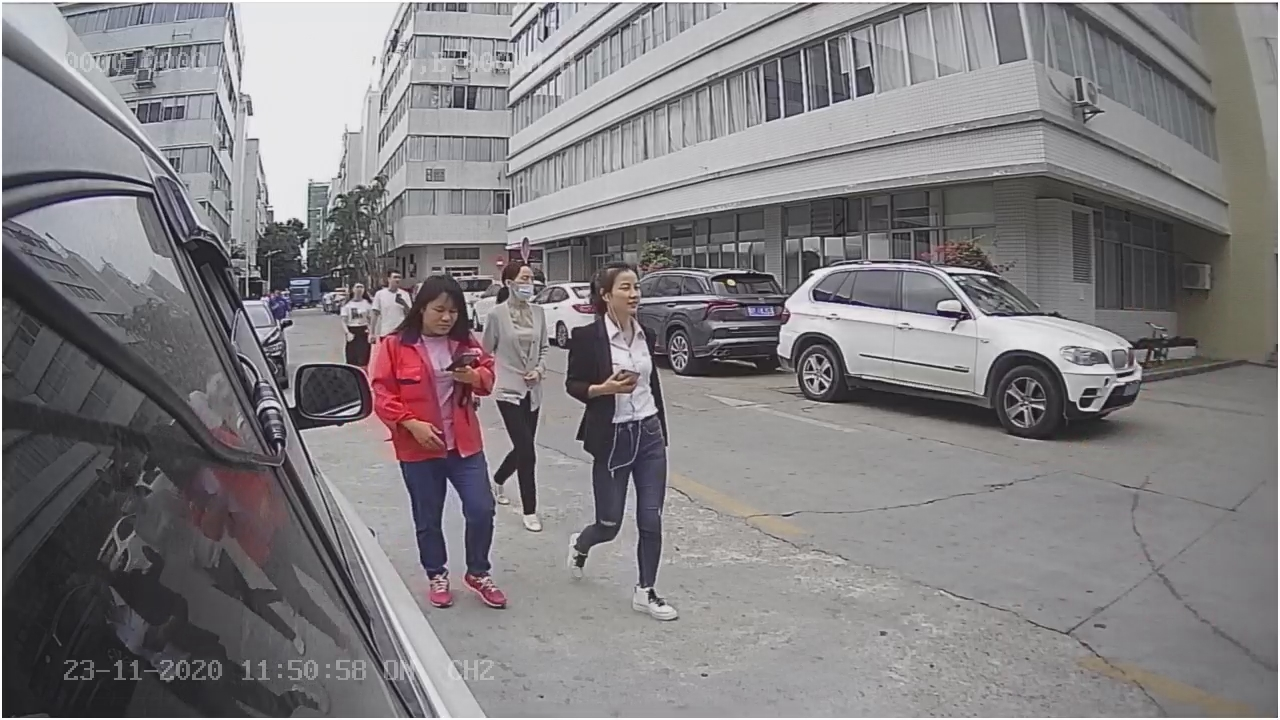person: (566, 261, 684, 625), (375, 259, 506, 454)
